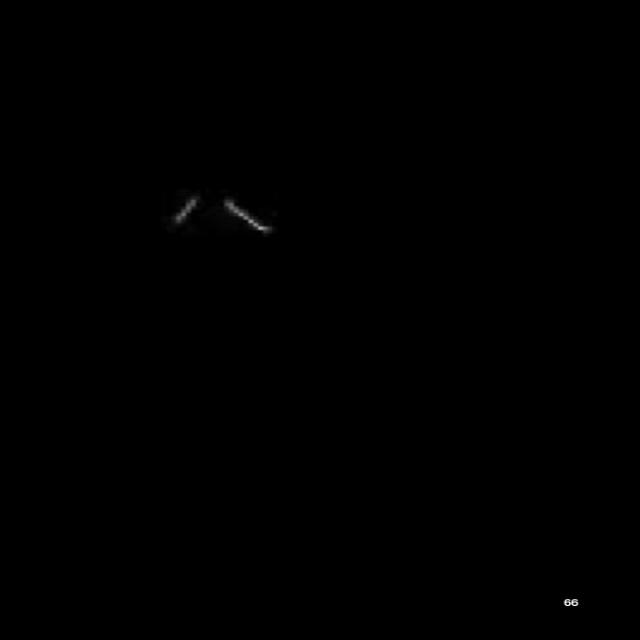8 -eight-: (164, 186, 290, 243)
